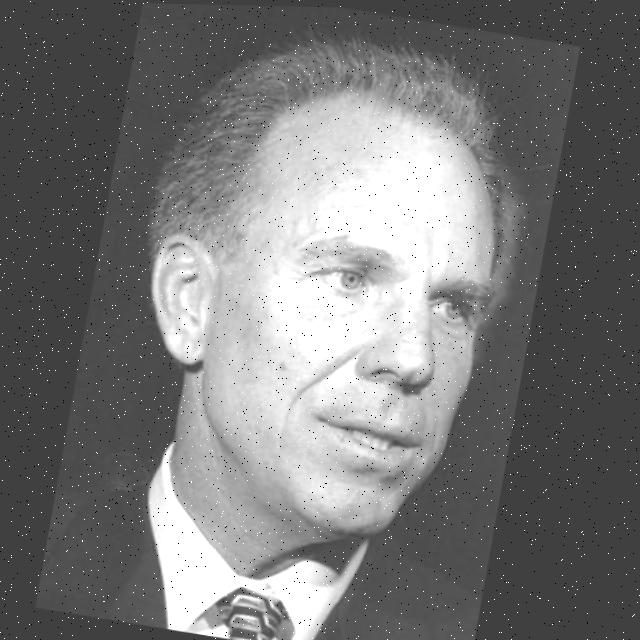face: (126, 113, 553, 572)
